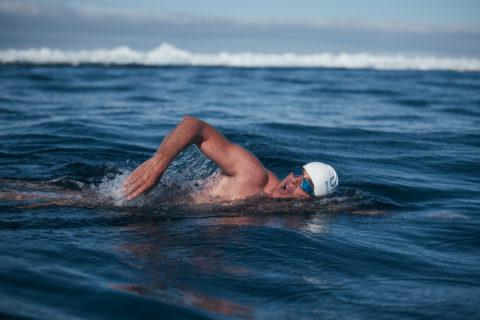human: (118, 114, 341, 214)
